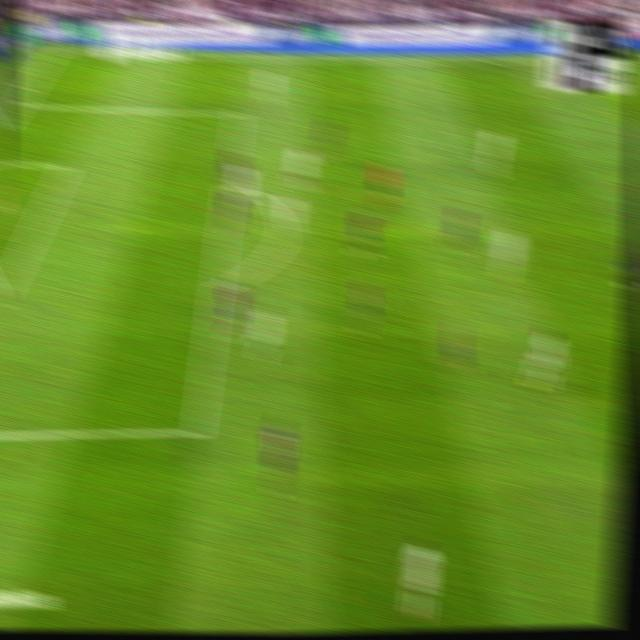bigarea_bottom_inner: (185, 413, 208, 444)
bigarea_top_inner: (228, 104, 247, 123)
bigarea_top_outter: (10, 94, 28, 109)
bottom_arc_area_intersection: (206, 277, 226, 297)
corner: (45, 42, 64, 56)
smallarea_bottom_inner: (0, 286, 9, 316)
